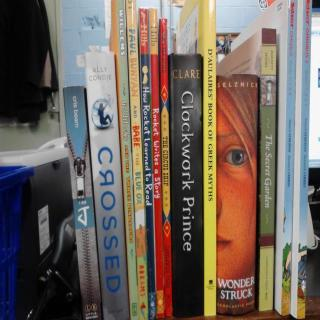book-spine: (215, 0, 297, 315), (177, 0, 219, 316), (84, 49, 132, 320), (107, 0, 140, 320), (215, 74, 258, 315), (168, 53, 204, 318), (63, 85, 103, 320), (125, 0, 150, 319), (290, 0, 313, 319), (137, 8, 159, 319), (257, 28, 276, 311), (148, 8, 165, 318), (158, 18, 173, 317)
